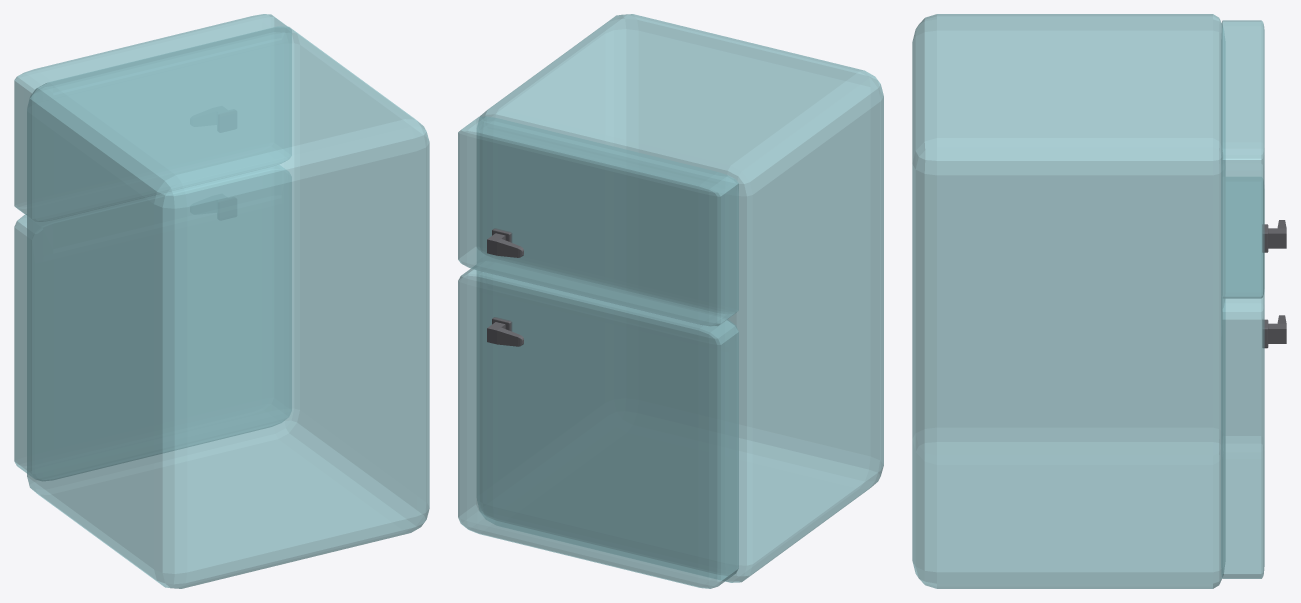
Rendered from Fridge.glb.
3 renders of one model, left to right at view 1: azimuth 30°, elevation 25°; view 2: azimuth 150°, elevation 25°; view 3: azimuth 270°, elevation 25°, orthographic. The views are drawn at different scales.
Parts seen in each view (by area): view 1: Cube.011; view 2: Cube.011; view 3: Cube.011.
Part boxes in pixels (x1,y1,x2,y2): Cube.011: (14, 14, 429, 588); Cube.011: (458, 14, 883, 588); Cube.011: (912, 14, 1286, 588).
Bounding box in the file's own units: 0.8752 × 1.26 × 0.9564.
